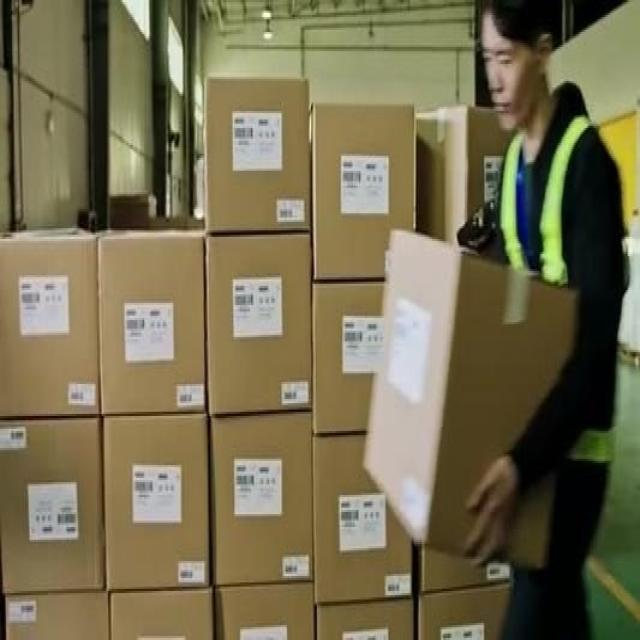box: (362, 231, 580, 571), (94, 229, 205, 413), (203, 230, 313, 412), (101, 411, 211, 589), (0, 412, 105, 592), (310, 103, 415, 283), (0, 229, 100, 417), (207, 411, 314, 585), (313, 433, 413, 602), (202, 79, 311, 232), (414, 106, 519, 250), (311, 283, 386, 434), (413, 580, 511, 638), (108, 585, 214, 638), (212, 582, 314, 637), (413, 541, 514, 595), (5, 588, 109, 638), (313, 594, 414, 638)
